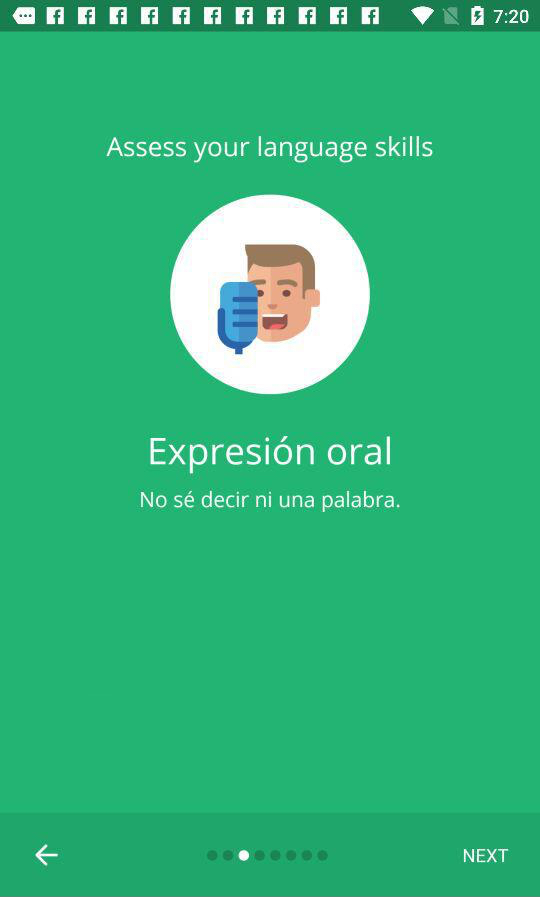Icon: (35, 844, 59, 867)
Image: (168, 194, 372, 396)
PageIndicator: (206, 848, 330, 862)
Text: (149, 435, 392, 475), (106, 136, 434, 165), (140, 490, 401, 513), (462, 848, 510, 864)
UpperTaskBar: (1, 1, 540, 33)
